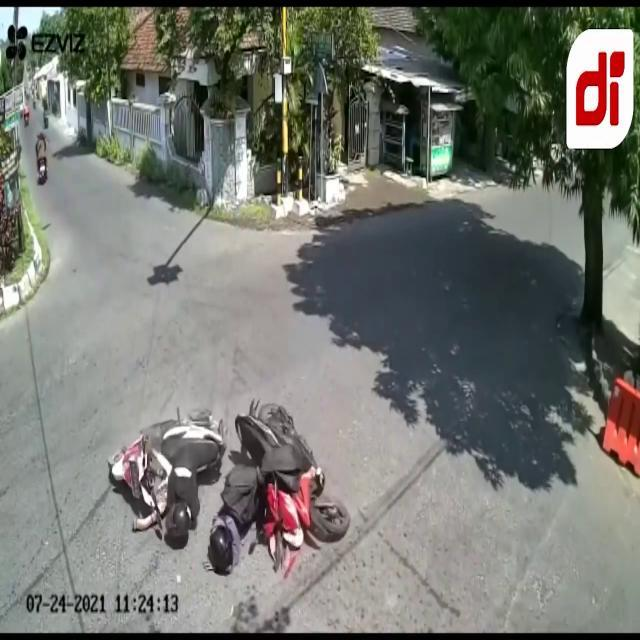multiple_accident: (100, 383, 363, 582)
normal: (20, 113, 68, 185)
